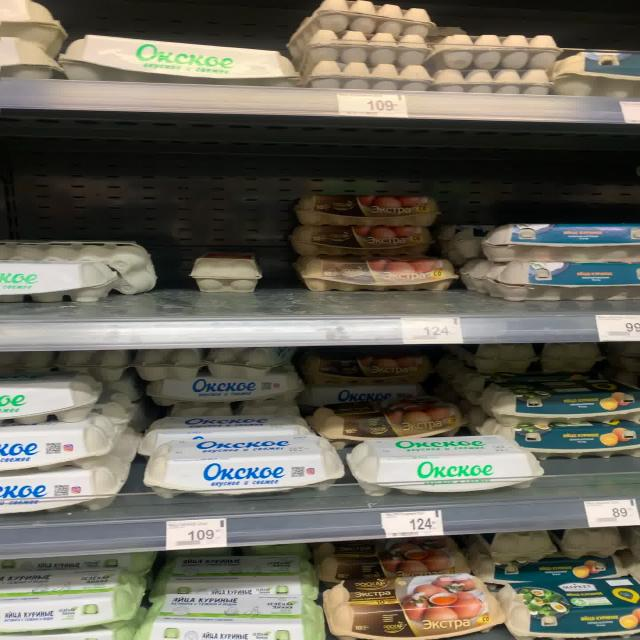egg box: (60, 30, 299, 87), (139, 433, 342, 499), (346, 433, 542, 499), (328, 572, 498, 636), (2, 566, 146, 636), (491, 575, 638, 637), (139, 410, 312, 459), (482, 376, 637, 426), (311, 534, 468, 582), (152, 555, 323, 599), (315, 392, 465, 442), (471, 414, 638, 458), (1, 461, 127, 516), (148, 599, 324, 637), (296, 252, 454, 293), (484, 219, 637, 260), (484, 259, 638, 299), (147, 372, 300, 404), (296, 196, 440, 229), (306, 351, 435, 387), (288, 223, 432, 255)
